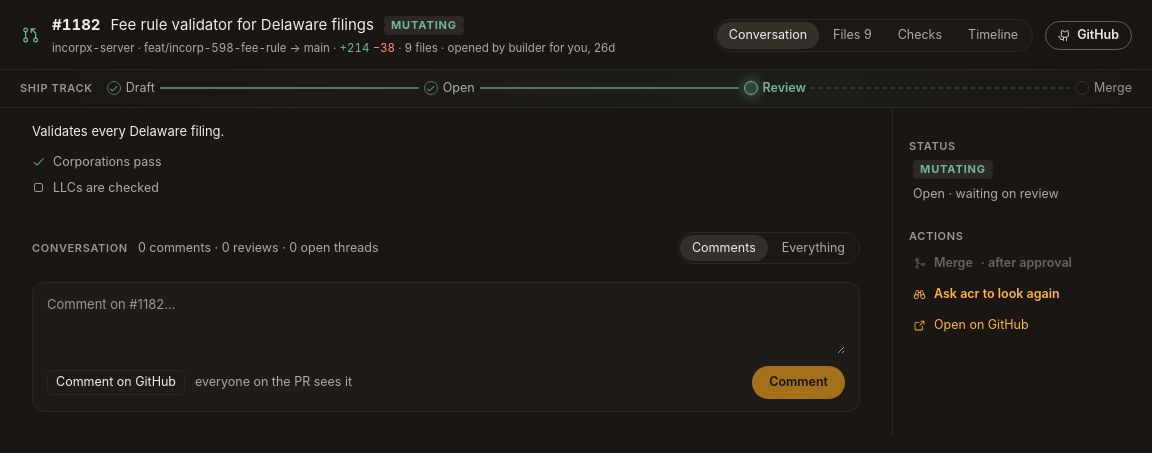
Test case: PrPage › has a Files tab labelled with the changed-file count, and shows the tree on it (HIVE-207)
Click the radio button labelled "Files 9" at {"x": 852, "y": 35}, box [821,22,884,49]
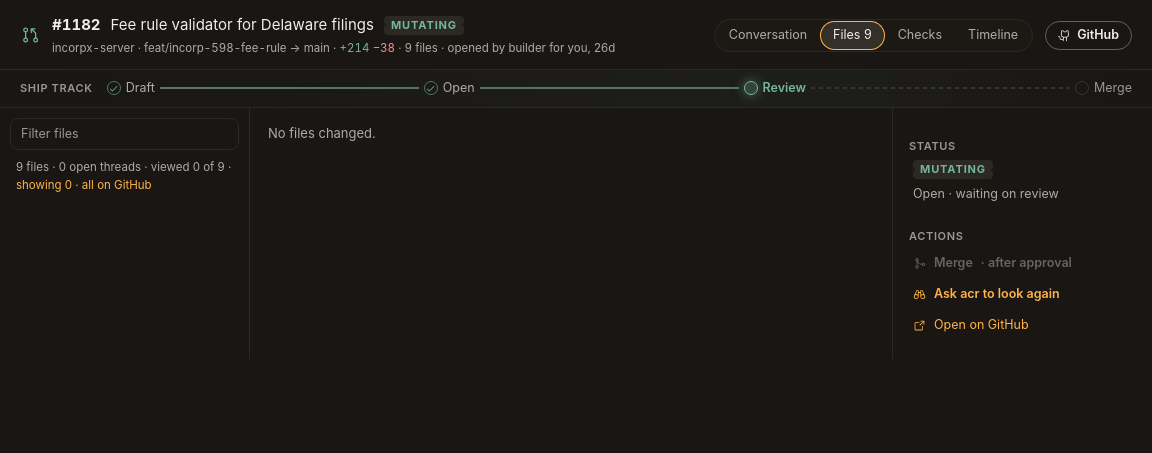
Expected: the element named "Changed files" is shown, [0,108,250,358]
